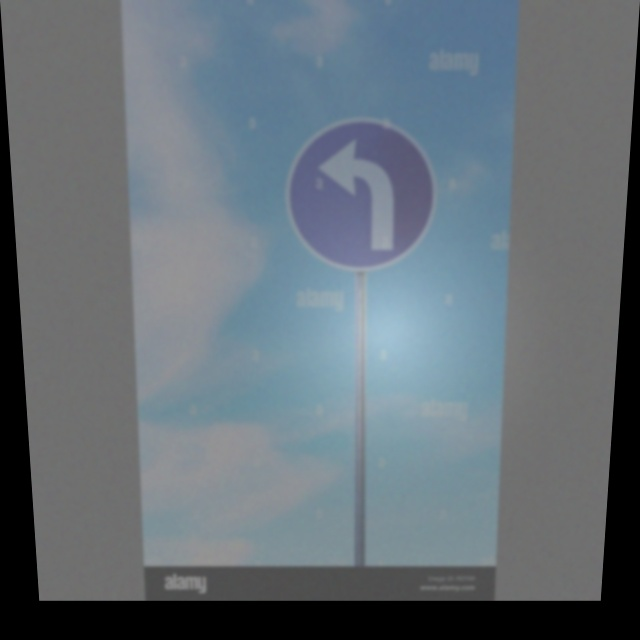Compulsory_Turn_Left_Ahead: (291, 115, 436, 276)
